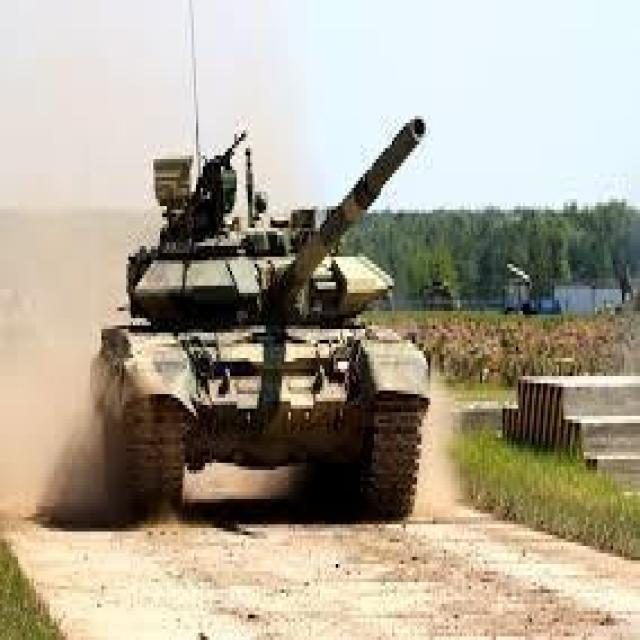Tanks: (105, 121, 434, 515)
